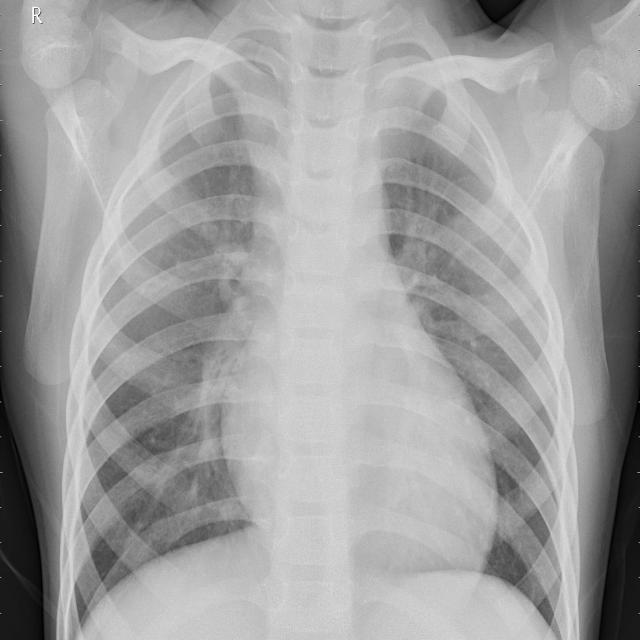no-pneumonia: (61, 75, 271, 636), (382, 88, 580, 638)
